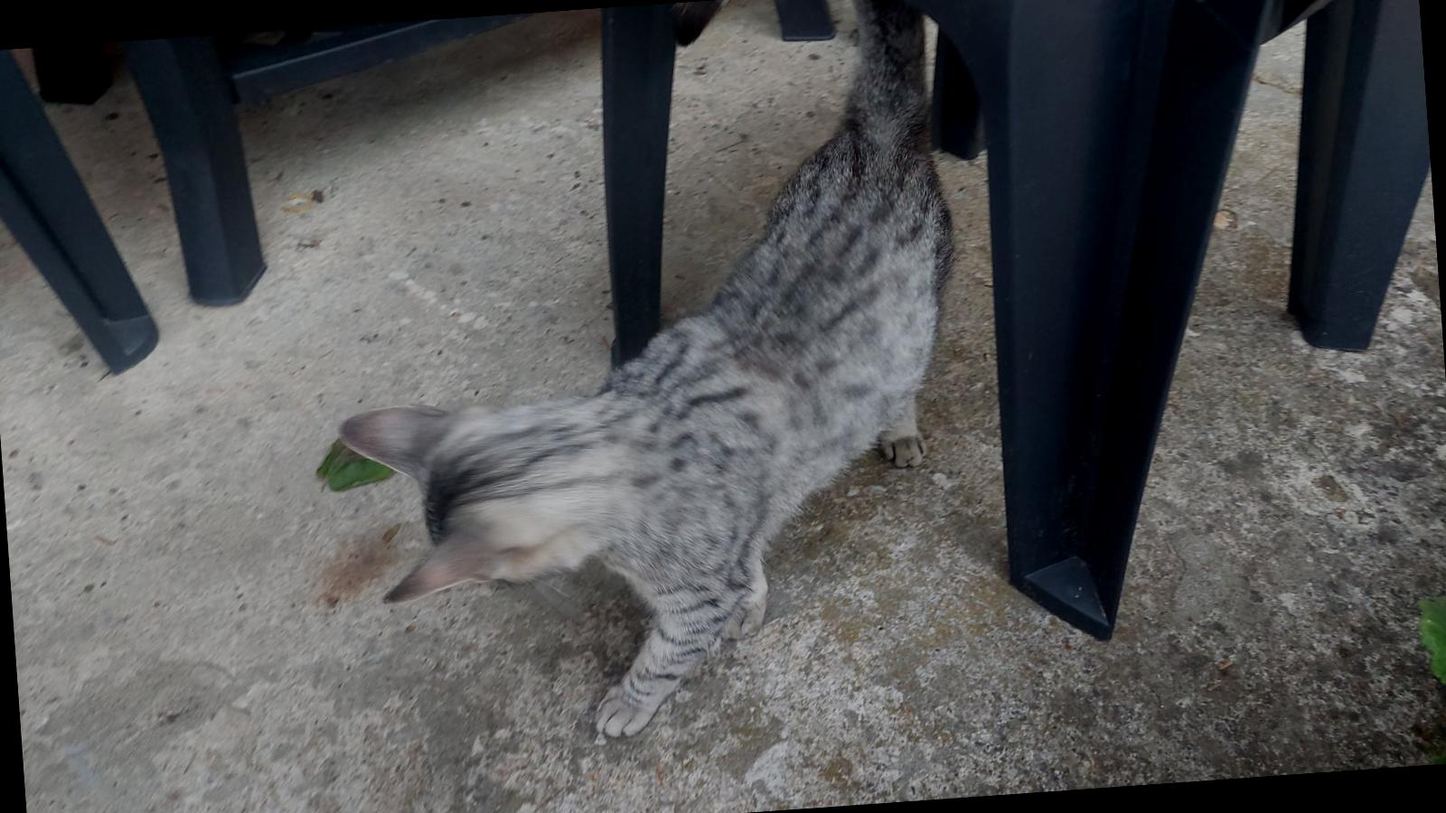macka: (308, 77, 1041, 754)
